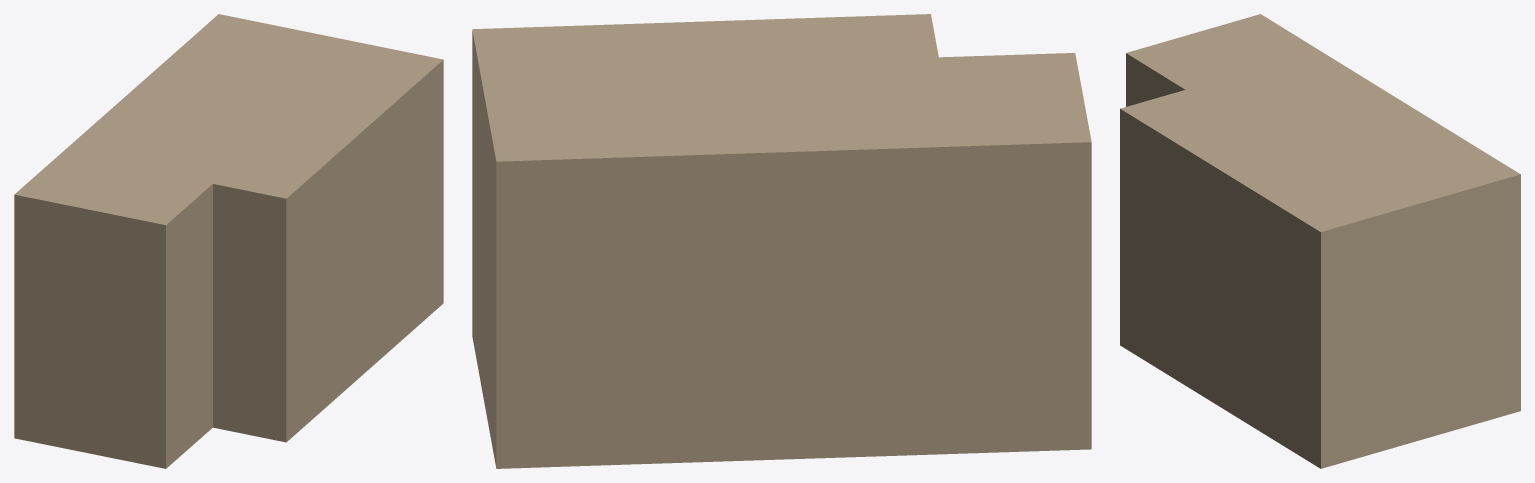
File: bld_107716087.dae
3 renders of one model, left to right at view 1: azimuth 30°, elevation 25°; view 2: azimuth 150°, elevation 25°; view 3: azimuth 270°, elevation 25°, orthographic. The views are drawn at different scales.
Visible parts, largest first — view 1: bld_107716087; view 2: bld_107716087; view 3: bld_107716087.
Boxes of the visible parts, box(x1,y1,x2,y2) form: bld_107716087: box(14, 14, 443, 468); bld_107716087: box(472, 14, 1091, 468); bld_107716087: box(1120, 14, 1520, 468).
Size of the model in its own units: 15.81 by 12.27 by 8.
